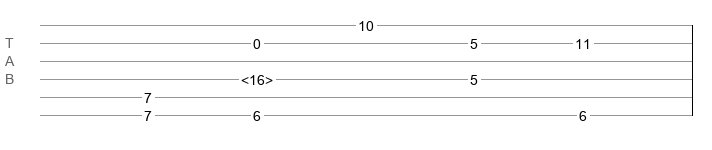0: (253, 36, 261, 46)
10: (358, 18, 374, 28)
11: (575, 36, 591, 46)
5: (470, 72, 478, 82), (470, 36, 478, 46)
6: (253, 108, 261, 118), (579, 108, 587, 118)
7: (144, 108, 152, 118), (144, 90, 152, 100)
harmonic: (241, 72, 273, 82)
